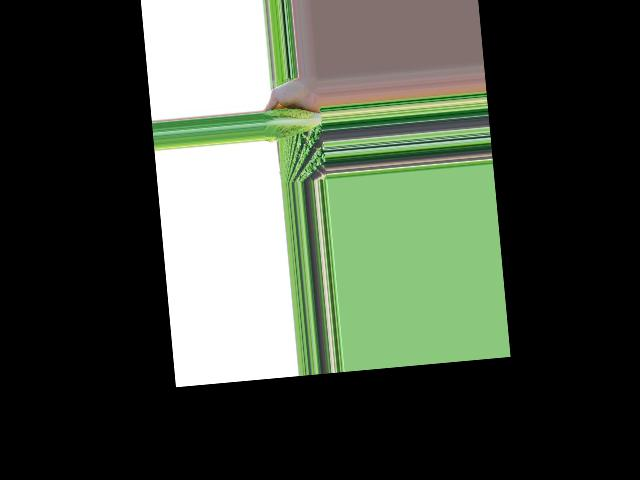lettuce: (264, 105, 324, 141)
